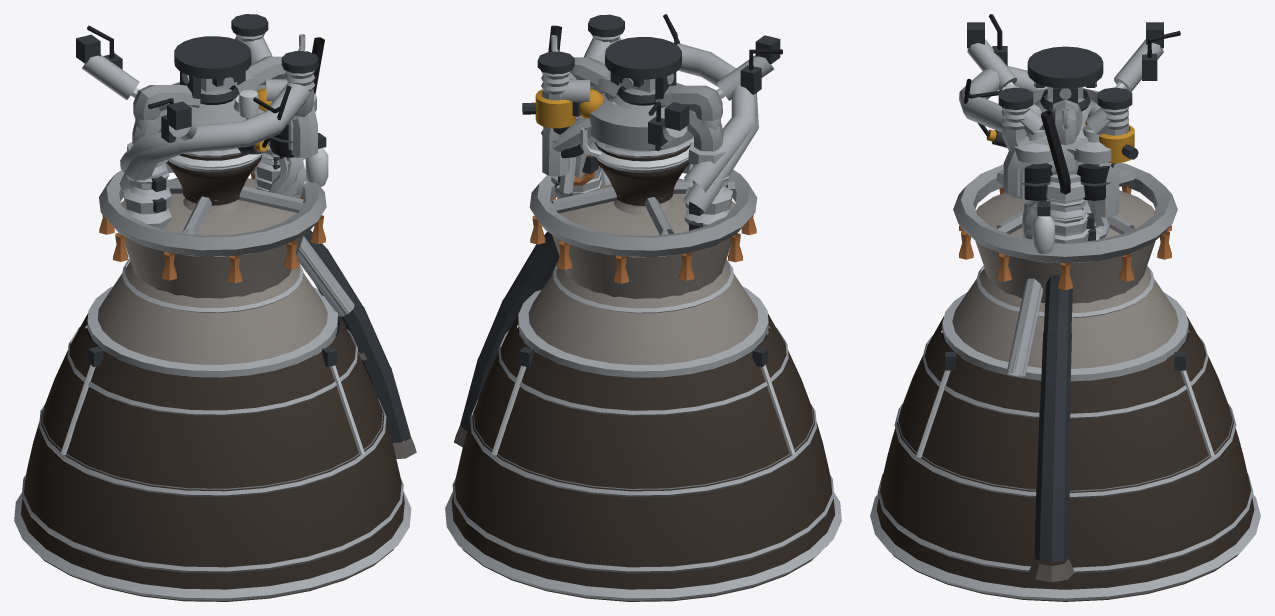
Rendered from engine_l_vac.glb.
3 views of the same model, side by side, from view 1: azimuth 30°, elevation 25°; view 2: azimuth 150°, elevation 25°; view 3: azimuth 270°, elevation 25° (orthographic).
Visible parts, largest first — view 1: slot_nozzleExt__ablative, slot_contour, slot_contour__aerospike, slot_cycle__ffsc, slot_cycle__sc_fuel, slot_nozzleExt, slot_cycle, gimbal_block, actuators, slot_chamber__ablative, slot_nozzleExt__extendable, ducts (+6 smaller); view 2: slot_nozzleExt__ablative, slot_contour, slot_contour__aerospike, slot_cycle__ffsc, slot_cycle__sc_fuel, slot_nozzleExt, gimbal_block, actuators, slot_chamber__ablative, slot_cycle, slot_cycle__tapoff, slot_nozzleExt__extendable (+6 smaller); view 3: slot_nozzleExt__ablative, slot_contour__aerospike, slot_contour, slot_cycle, slot_cycle__tapoff, slot_cycle__electric, slot_nozzleExt, slot_cycle__sc, actuators, slot_cycle__ffsc, gimbal_block, ducts (+4 smaller).
Part boxes in pixels (x1,y1,x2,y2): slot_nozzleExt__ablative: (21,313,404,601); slot_contour: (87,198,337,377); slot_contour__aerospike: (99,163,326,298); slot_cycle__ffsc: (120,56,353,315); slot_cycle__sc_fuel: (119,82,354,316); slot_nozzleExt: (14,335,411,601); slot_cycle: (258,59,416,458); gimbal_block: (174,36,251,104); actuators: (76,25,197,142); slot_chamber__ablative: (166,148,261,205); slot_nozzleExt__extendable: (42,328,383,489); ducts: (231,14,318,91); slot_nozzleExt__ablative: (451,314,835,601); slot_contour: (518,198,768,377); slot_contour__aerospike: (529,163,757,298); slot_cycle__ffsc: (545,39,756,215); slot_cycle__sc_fuel: (543,60,758,230); slot_nozzleExt: (445,330,841,601); gimbal_block: (605,37,681,105); actuators: (648,35,782,151); slot_chamber__ablative: (594,137,693,205); slot_cycle: (454,91,615,447); slot_cycle__tapoff: (460,148,598,431); slot_nozzleExt__extendable: (473,328,813,490); slot_nozzleExt__ablative: (876,316,1254,601); slot_contour__aerospike: (953,163,1177,303); slot_contour: (942,265,1188,381); slot_cycle: (1002,127,1126,582); slot_cycle__tapoff: (1034,213,1094,561); slot_cycle__electric: (1014,108,1115,219); slot_nozzleExt: (870,357,1260,601); slot_cycle__sc: (1006,99,1128,376); actuators: (967,14,1180,91); slot_cycle__ffsc: (959,66,1120,375); gimbal_block: (1027,46,1103,111); ducts: (998,87,1132,129).
Bounding box in the file's own units: 2.44 × 2.98 × 2.29.
